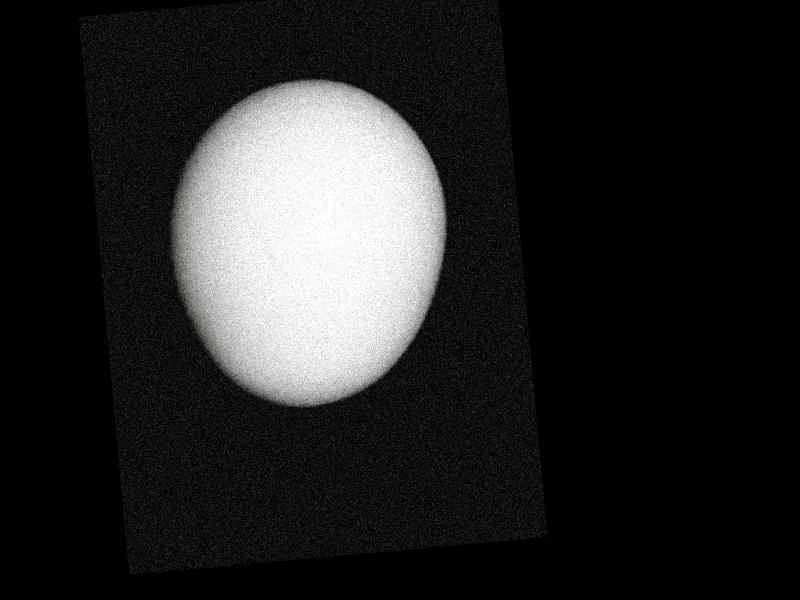Eggs: (163, 66, 459, 413)
